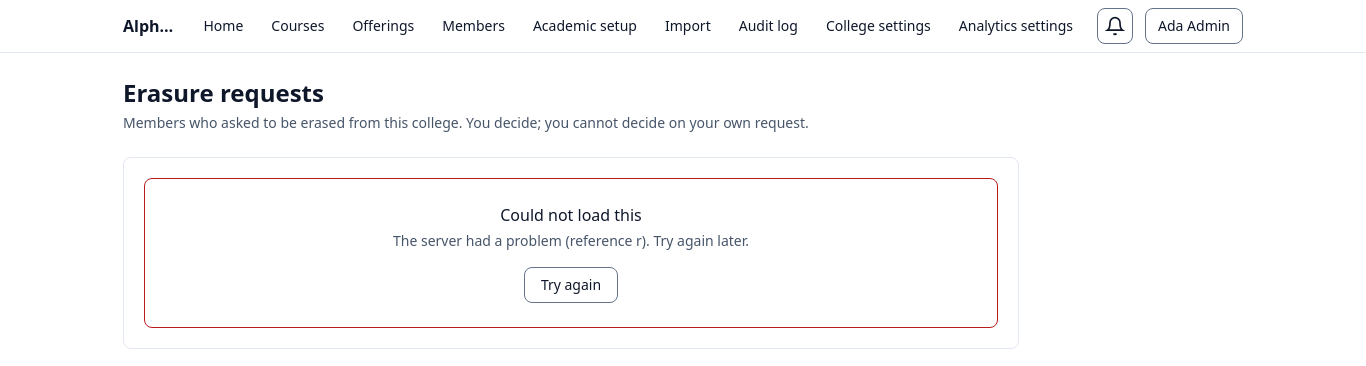
Test: Erasure requests (administrators) › empty and error states, and only people with the permission see the page in the menu
Click the button "Try again": (571, 285) x1=524 y1=267 x2=618 y2=303
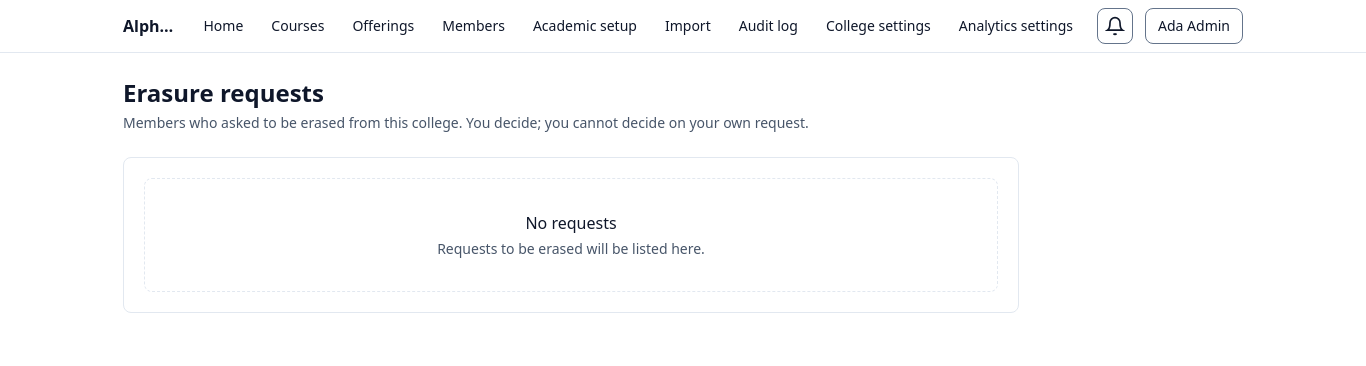
Expected: the text "No requests" is shown, x1=525 y1=212 x2=617 y2=234
